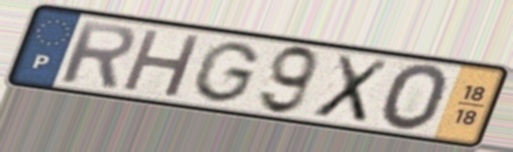9: (256, 43, 321, 118)
G: (187, 39, 265, 105)
H: (118, 26, 206, 100)
O: (376, 62, 452, 134)
R: (57, 17, 138, 91)
X: (308, 52, 394, 126)
